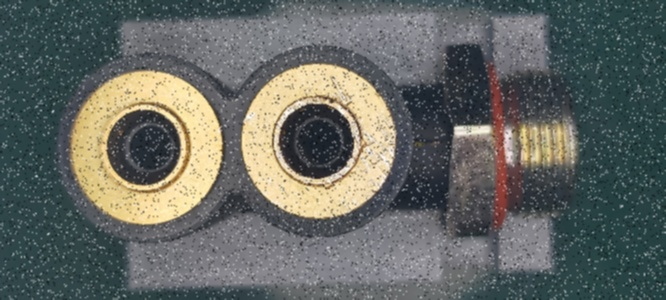craze: (413, 134, 451, 148)
